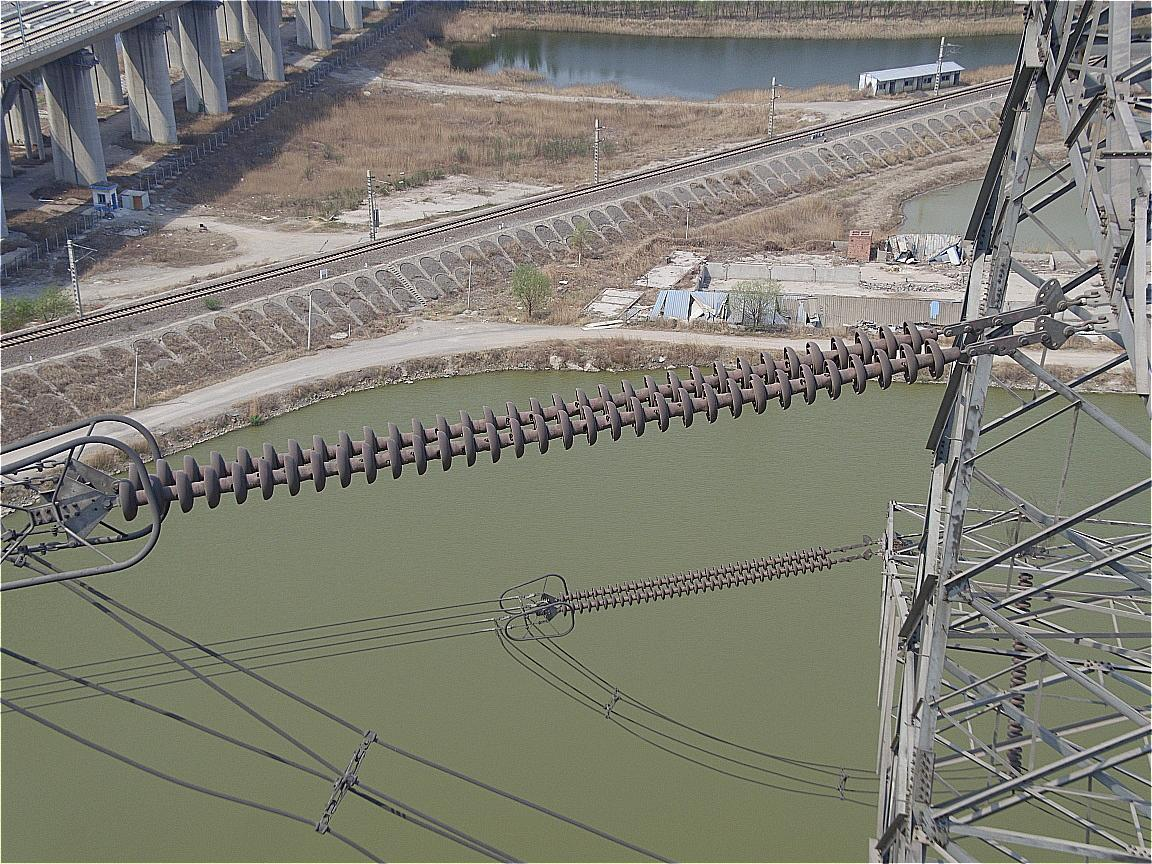insultor1: (119, 318, 945, 520), (560, 544, 840, 618)
